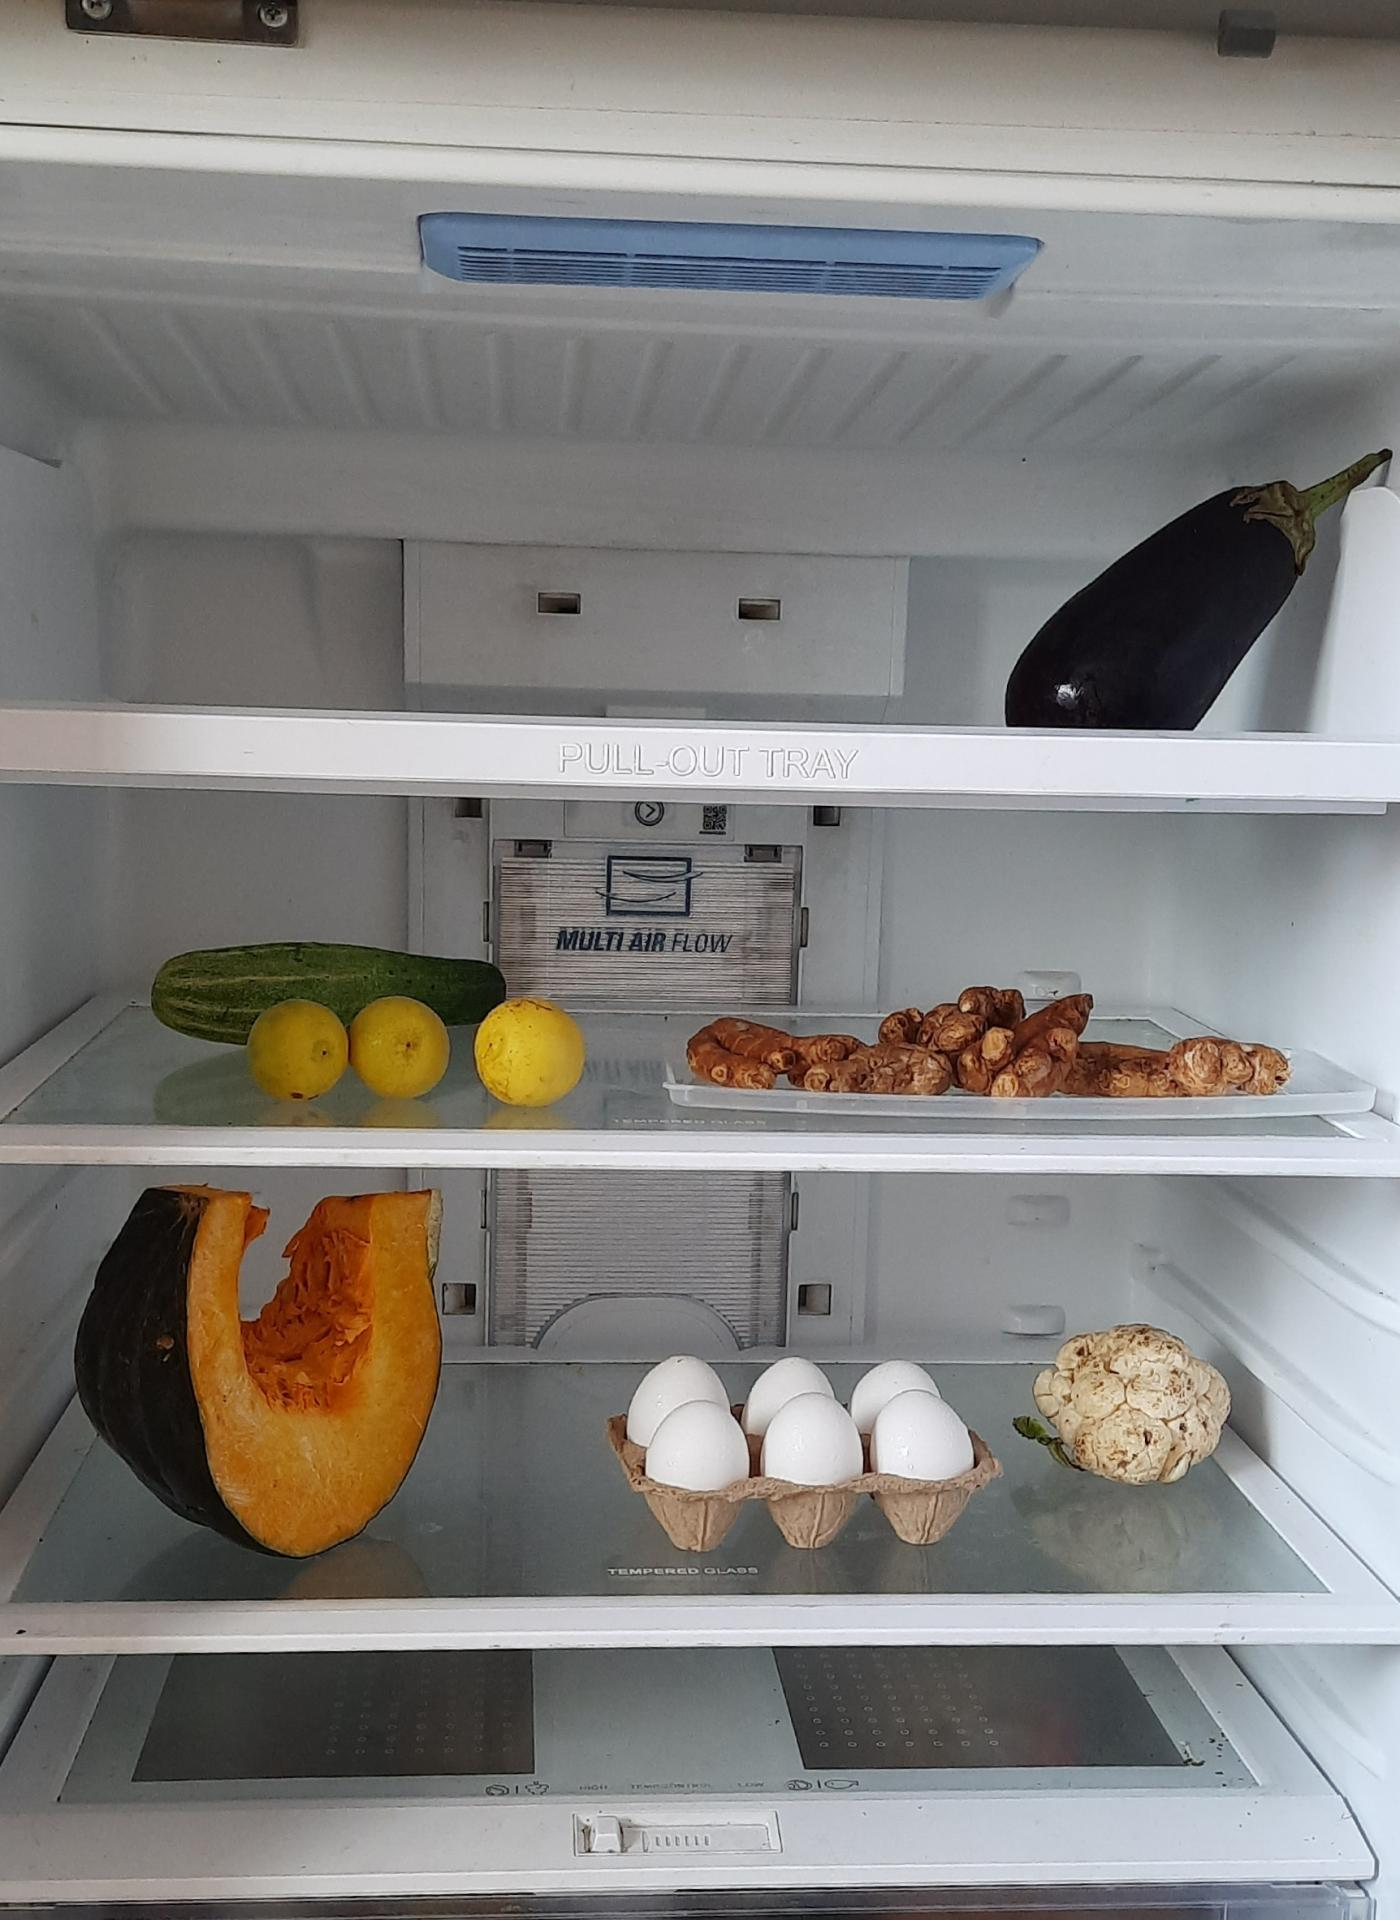brinjal: (990, 423, 1400, 735)
cauliflower: (1036, 1324, 1239, 1488)
cucumber: (149, 933, 517, 1046)
egg: (620, 1355, 966, 1553)
ginger: (671, 963, 1300, 1108)
lemon: (249, 997, 452, 1102), (473, 997, 589, 1106)
pumpkin: (81, 1185, 459, 1550)
